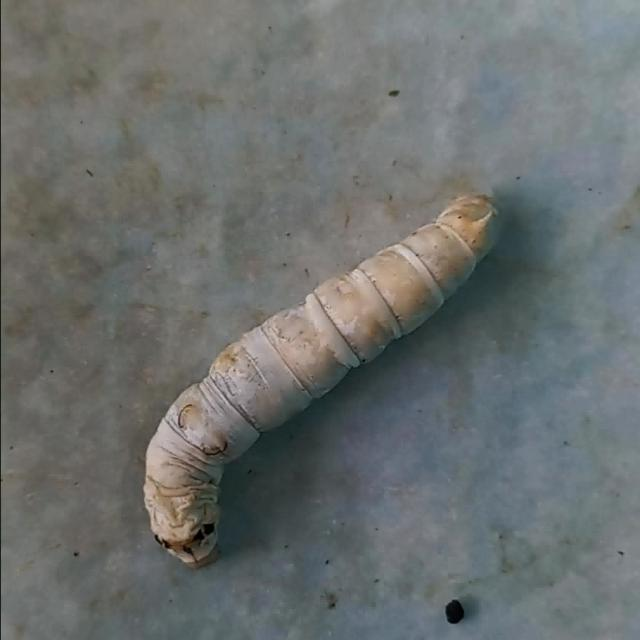Grasserie: (133, 178, 510, 567)
